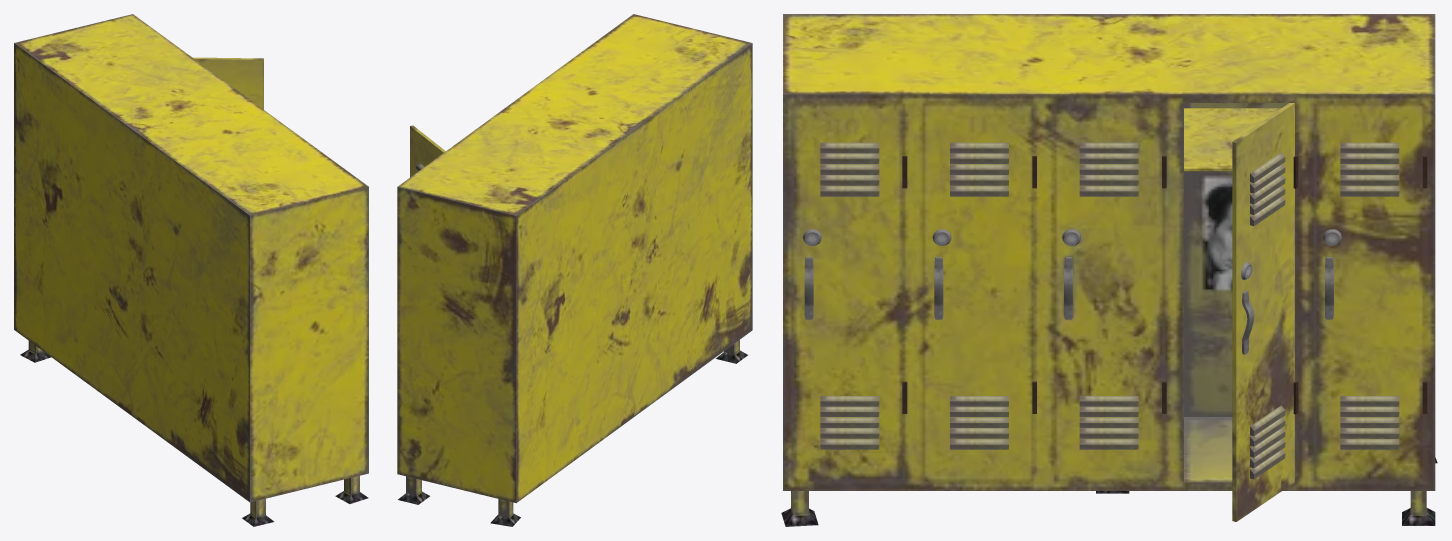
File: locker-row-yellow.glb
3 views of the same model, side by side, from view 1: azimuth 30°, elevation 25°; view 2: azimuth 150°, elevation 25°; view 3: azimuth 270°, elevation 25° (orthographic). The views are drawn at different scales.
Parts seen in each view (by area): view 1: locker_merged; view 2: locker_merged; view 3: locker_merged.
Boxes of the visible parts, bbox=[...] form: locker_merged: bbox=[14, 14, 368, 526]; locker_merged: bbox=[397, 14, 752, 526]; locker_merged: bbox=[781, 14, 1437, 526].
Bounding box in the file's own units: 1.1 × 1.85 × 2.55.
1 material, 1 textured.
